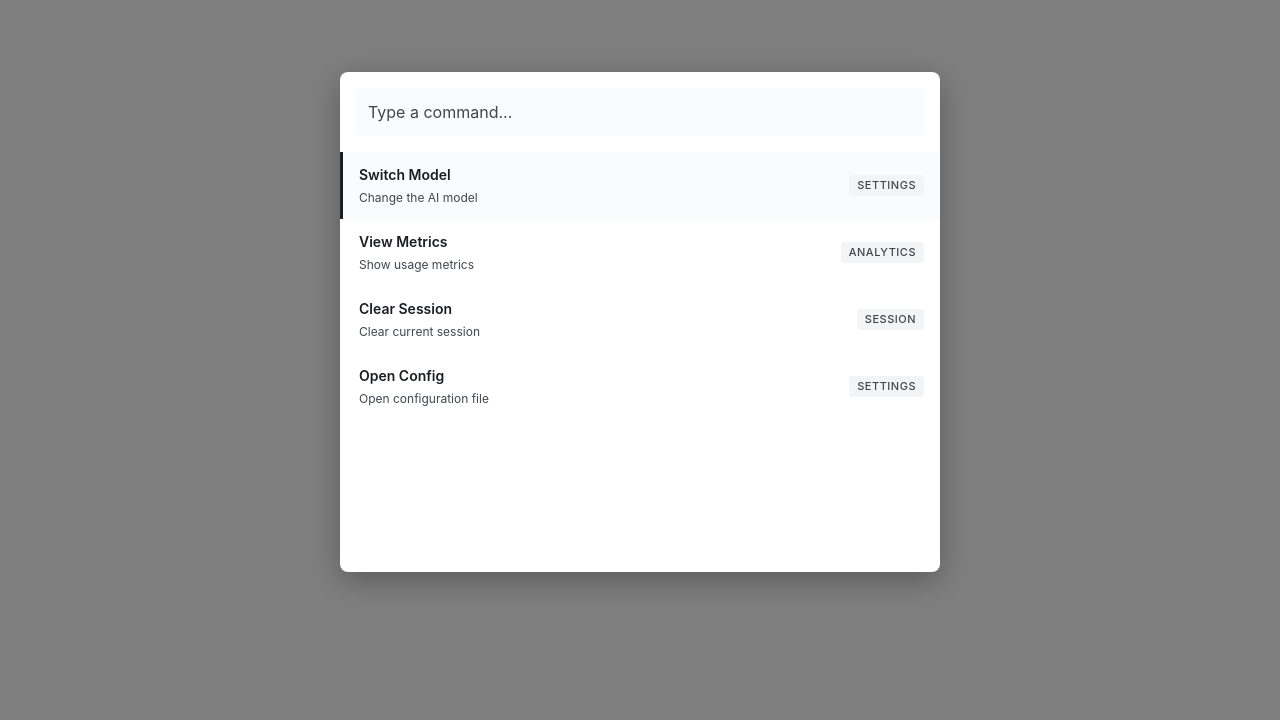
Test: CommandPalette.vue › Search Functionality › should filter commands by description
Type "usage" into the field with class "search-input" at [640, 112], box [356, 88, 924, 136]
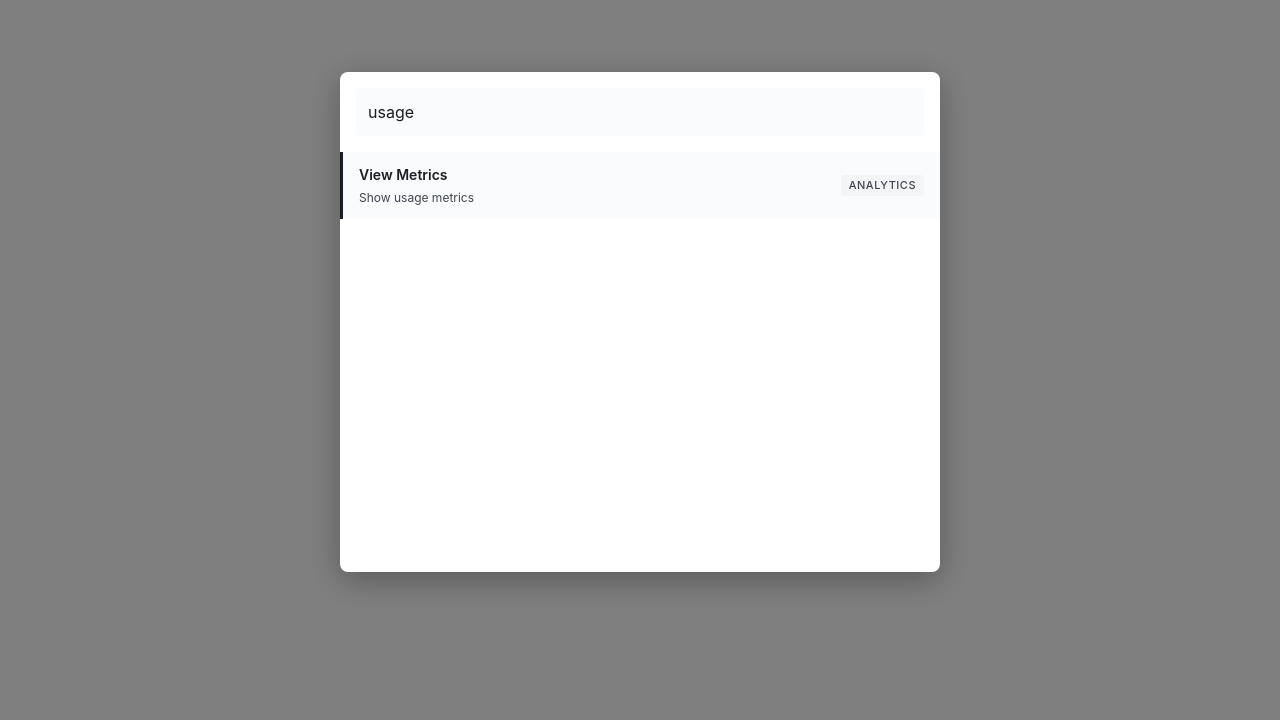
Expected: the text with class "command-name" reads "View Metrics", [359, 166, 448, 183]
Result: the number of elements with class "command-item" is 1 at [340, 152, 940, 219]
